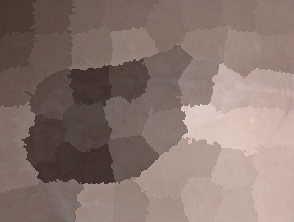vitiligo: (6, 45, 294, 222)
